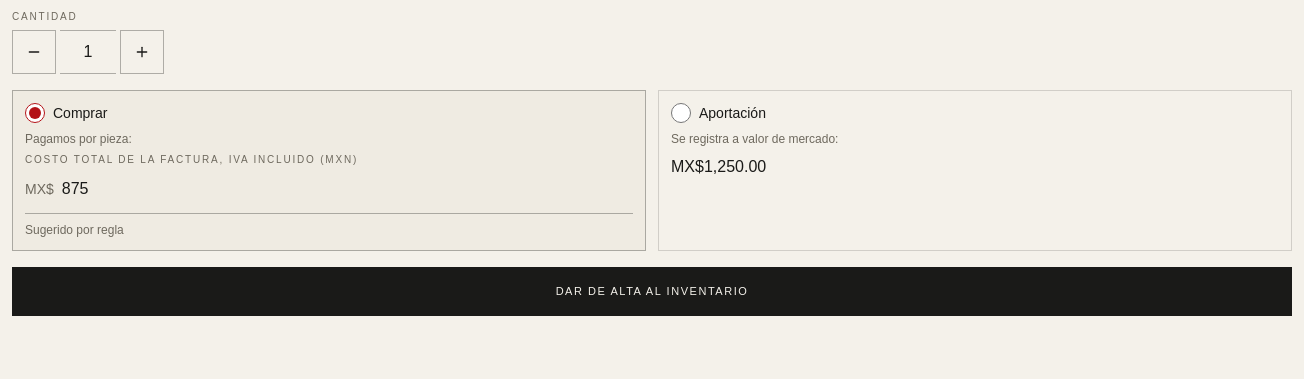
Scenario: QuickAddSection (P-19, §16.5) · alta rápida simplificada › respaldo P-4: un 422 PRICE_PENDING por línea se ancla como alerta con copy claro
Click the radio button labelled "Aportación Se registra a valor de mercado: MX$1,250.00" at x=681, y=113, box x1=671 y1=103 x2=691 y2=123
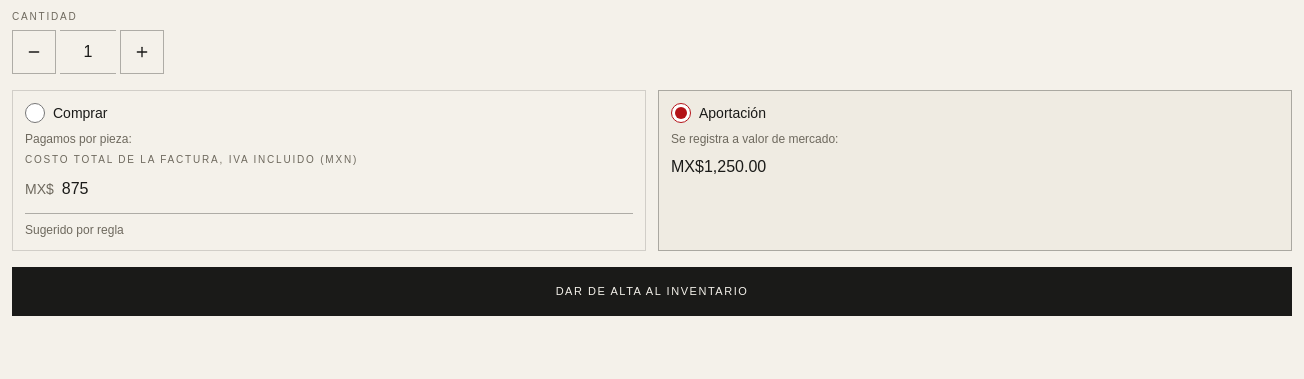
Click the button "Dar de alta al inventario" at x=652, y=291, box x1=12 y1=267 x2=1292 y2=316
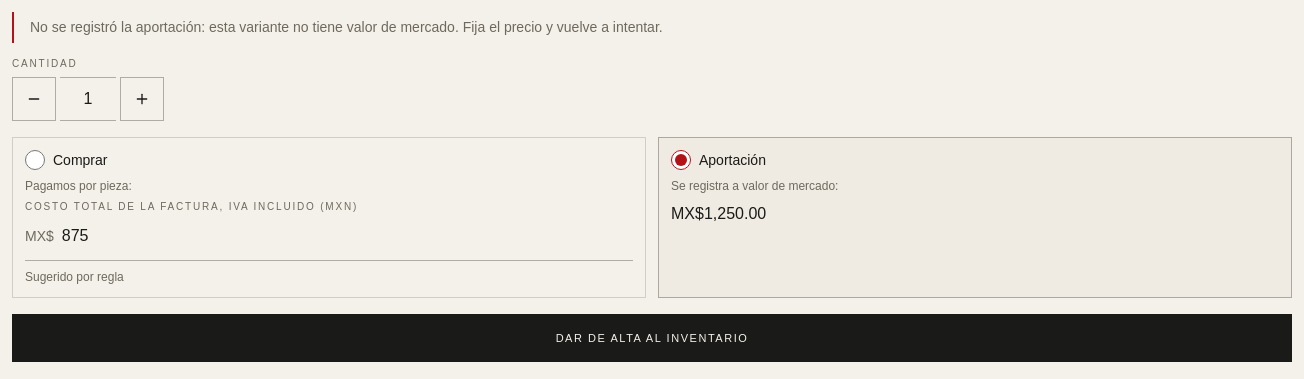
Result: the message shows "No se registró la aportación: esta variante no tiene valor de mercado. Fija el precio y vuelve a intentar." at x1=30 y1=19 x2=663 y2=35
